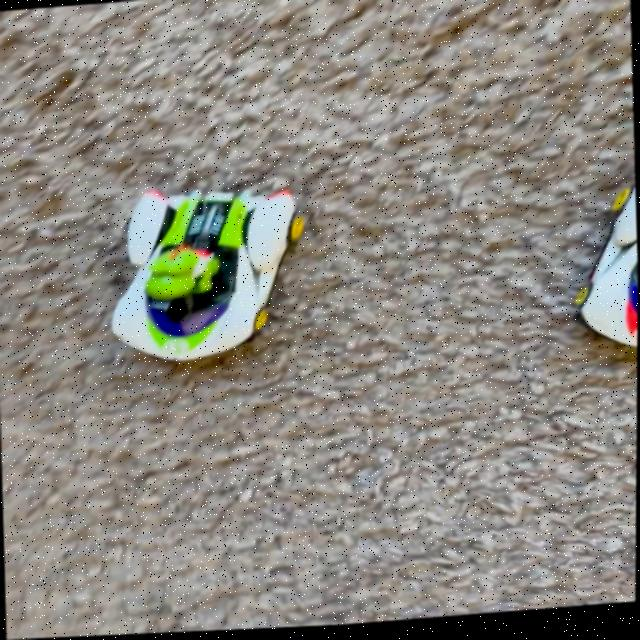yoshi: (97, 155, 312, 389), (552, 164, 639, 373)
